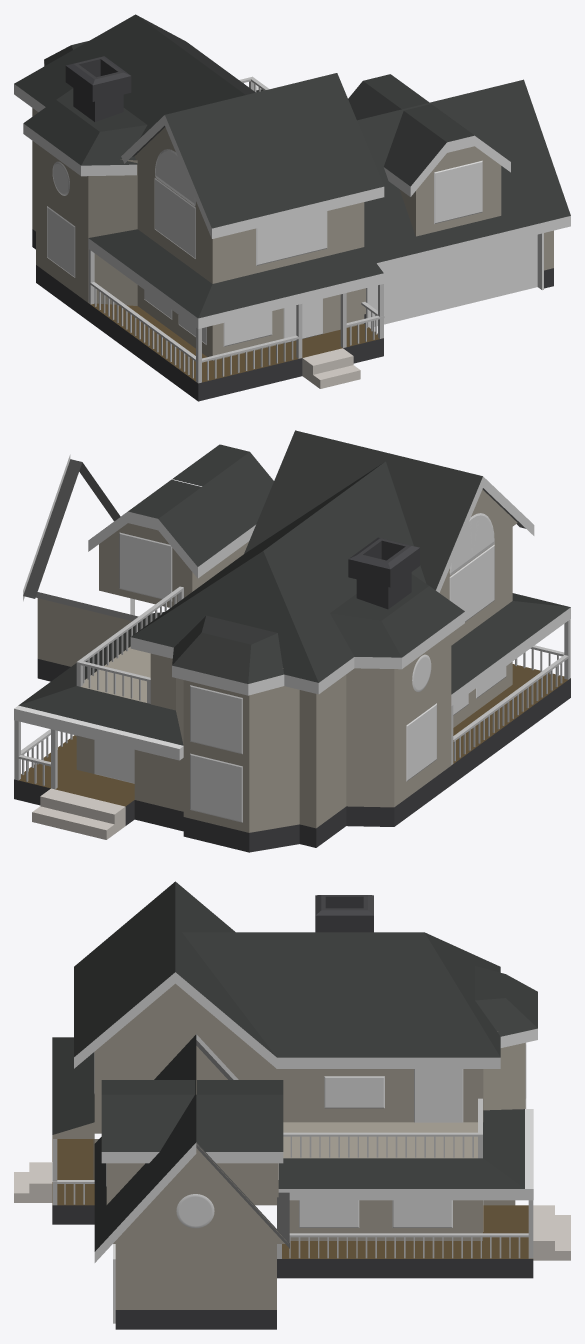
Rendered from house.glb.
The picture shows the model from 3 angles, top to bottom: view 1: azimuth 30°, elevation 25°; view 2: azimuth 150°, elevation 25°; view 3: azimuth 270°, elevation 25°; orthographic projection. The views are drawn at different scales.
Parts seen in each view (by area): view 1: roof, wood_1, doors_and_windows_collection, roof_edge, stone_1, woos_2, wood_3, concrete_1; view 2: roof, wood_1, doors_and_windows_collection, stone_1, roof_edge, woos_2, wood_3, roof_edge_2, concrete_1; view 3: roof, wood_1, roof_edge, stone_1, doors_and_windows_collection, wood_3, woos_2, concrete_1, roof_edge_2.
Part boxes in pixels (x1,y1,x2,y2): roof: (14, 14, 570, 318); wood_1: (32, 108, 553, 360); doors_and_windows_collection: (47, 149, 537, 346); roof_edge: (14, 60, 570, 328); stone_1: (32, 56, 553, 401); woos_2: (88, 76, 384, 383); wood_3: (88, 303, 379, 382); concrete_1: (302, 348, 360, 388); roof: (18, 430, 570, 745); wood_1: (37, 489, 517, 832); doors_and_windows_collection: (94, 513, 506, 822); stone_1: (14, 537, 570, 852); roof_edge: (14, 454, 570, 760); woos_2: (14, 586, 570, 789); wood_3: (19, 664, 568, 806); roof_edge_2: (23, 459, 525, 620); concrete_1: (32, 788, 125, 839); roof: (52, 881, 537, 1251); wood_1: (52, 983, 525, 1309); roof_edge: (74, 972, 537, 1323); stone_1: (52, 895, 533, 1329); doors_and_windows_collection: (93, 1043, 526, 1231); wood_3: (52, 1139, 532, 1258); woos_2: (52, 1098, 533, 1258); concrete_1: (14, 1162, 570, 1260); roof_edge_2: (196, 1040, 289, 1248).
Size of the model in its own units: 10.61 by 6.02 by 11.79.
